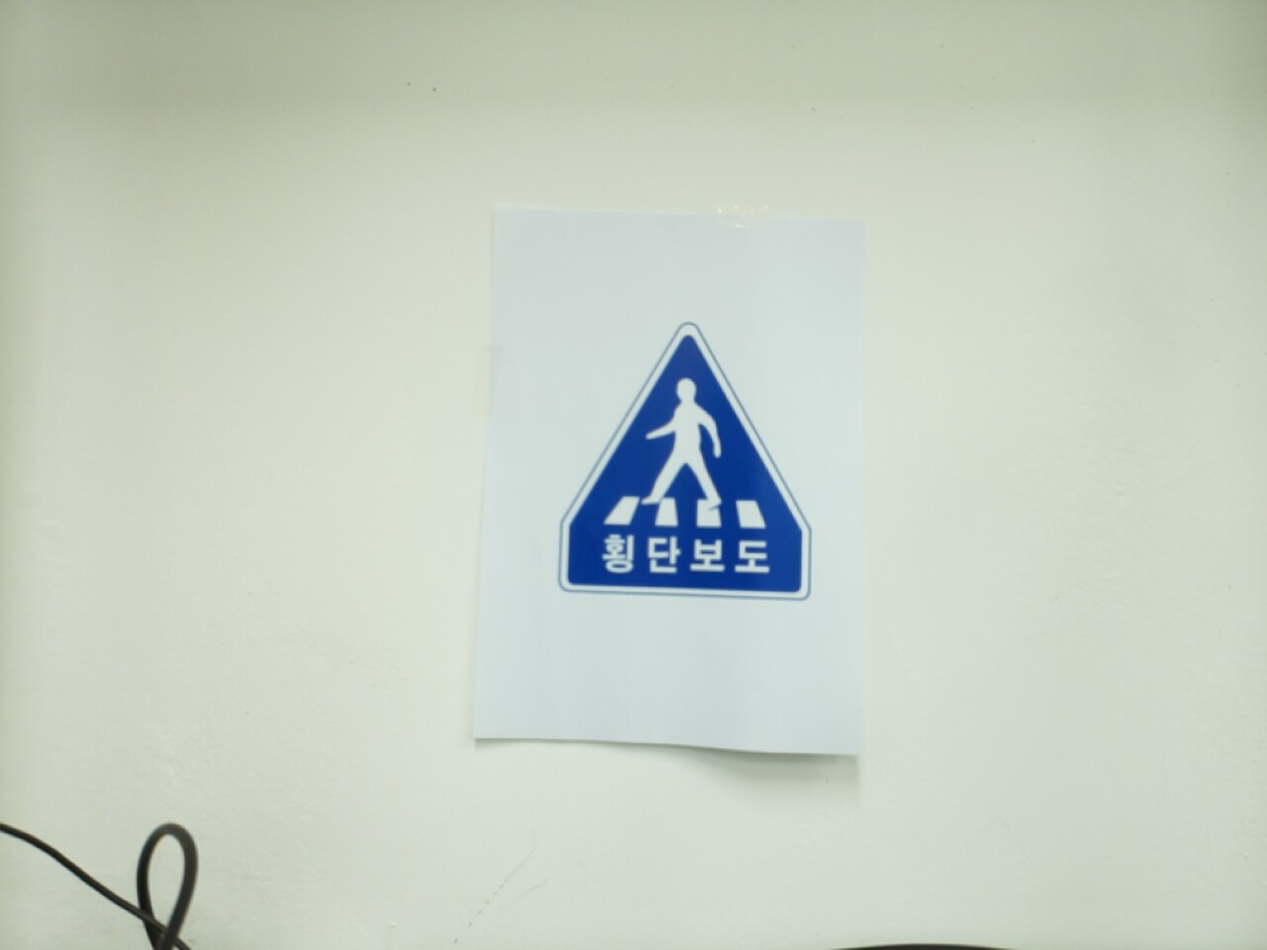crosswalk: (559, 326, 811, 602)
